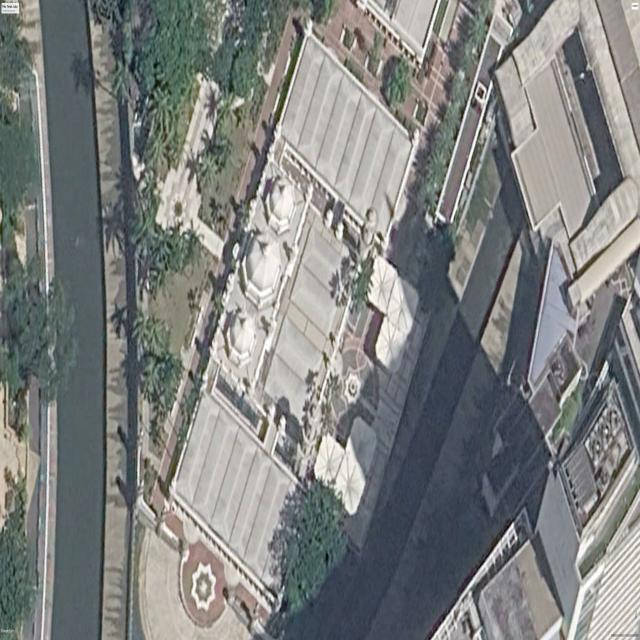mosque: (170, 25, 418, 618)
